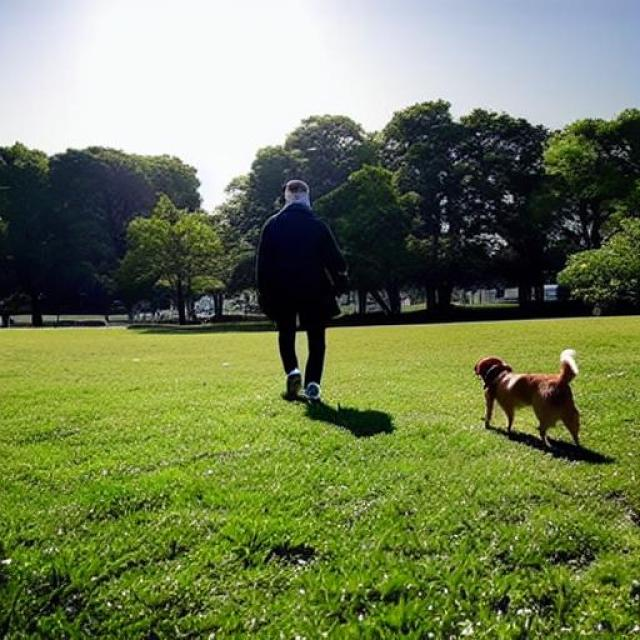Unleashed_Dog: (300, 284, 584, 451)
